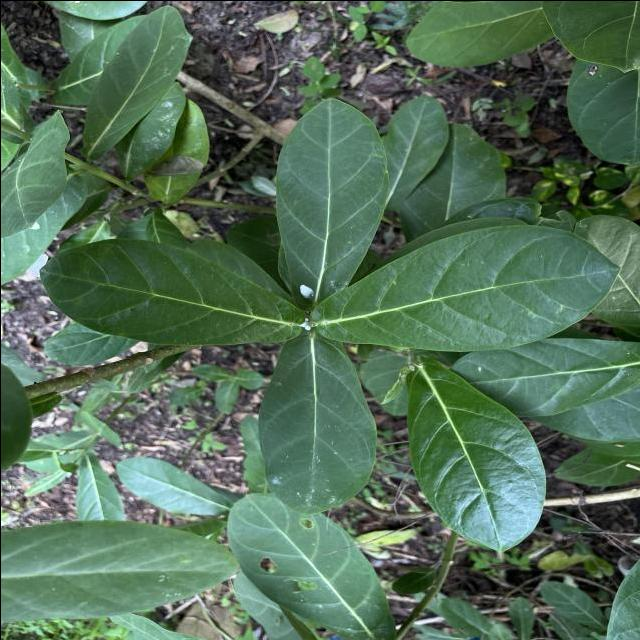Calotropis gigantea: (307, 222, 622, 352), (38, 235, 306, 347), (402, 354, 547, 553), (225, 490, 397, 640), (274, 94, 392, 309), (256, 328, 380, 516), (79, 3, 188, 161)
